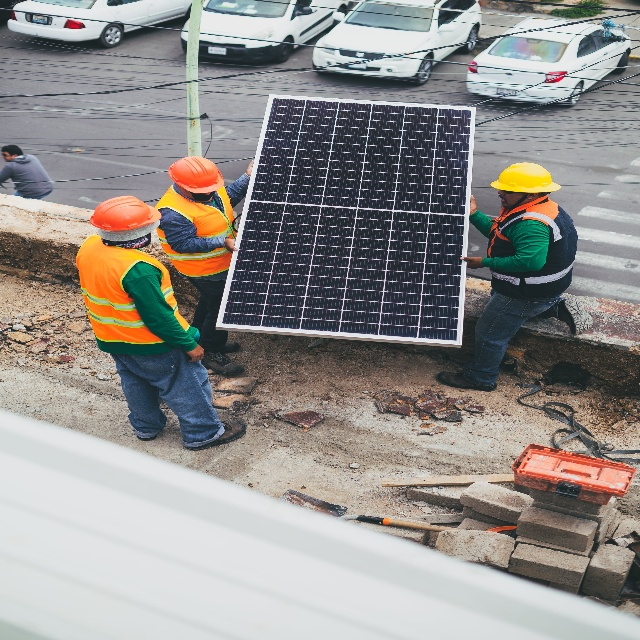Sin_guantes: (459, 253, 483, 269), (187, 341, 204, 362), (226, 236, 237, 253), (469, 194, 477, 214)
